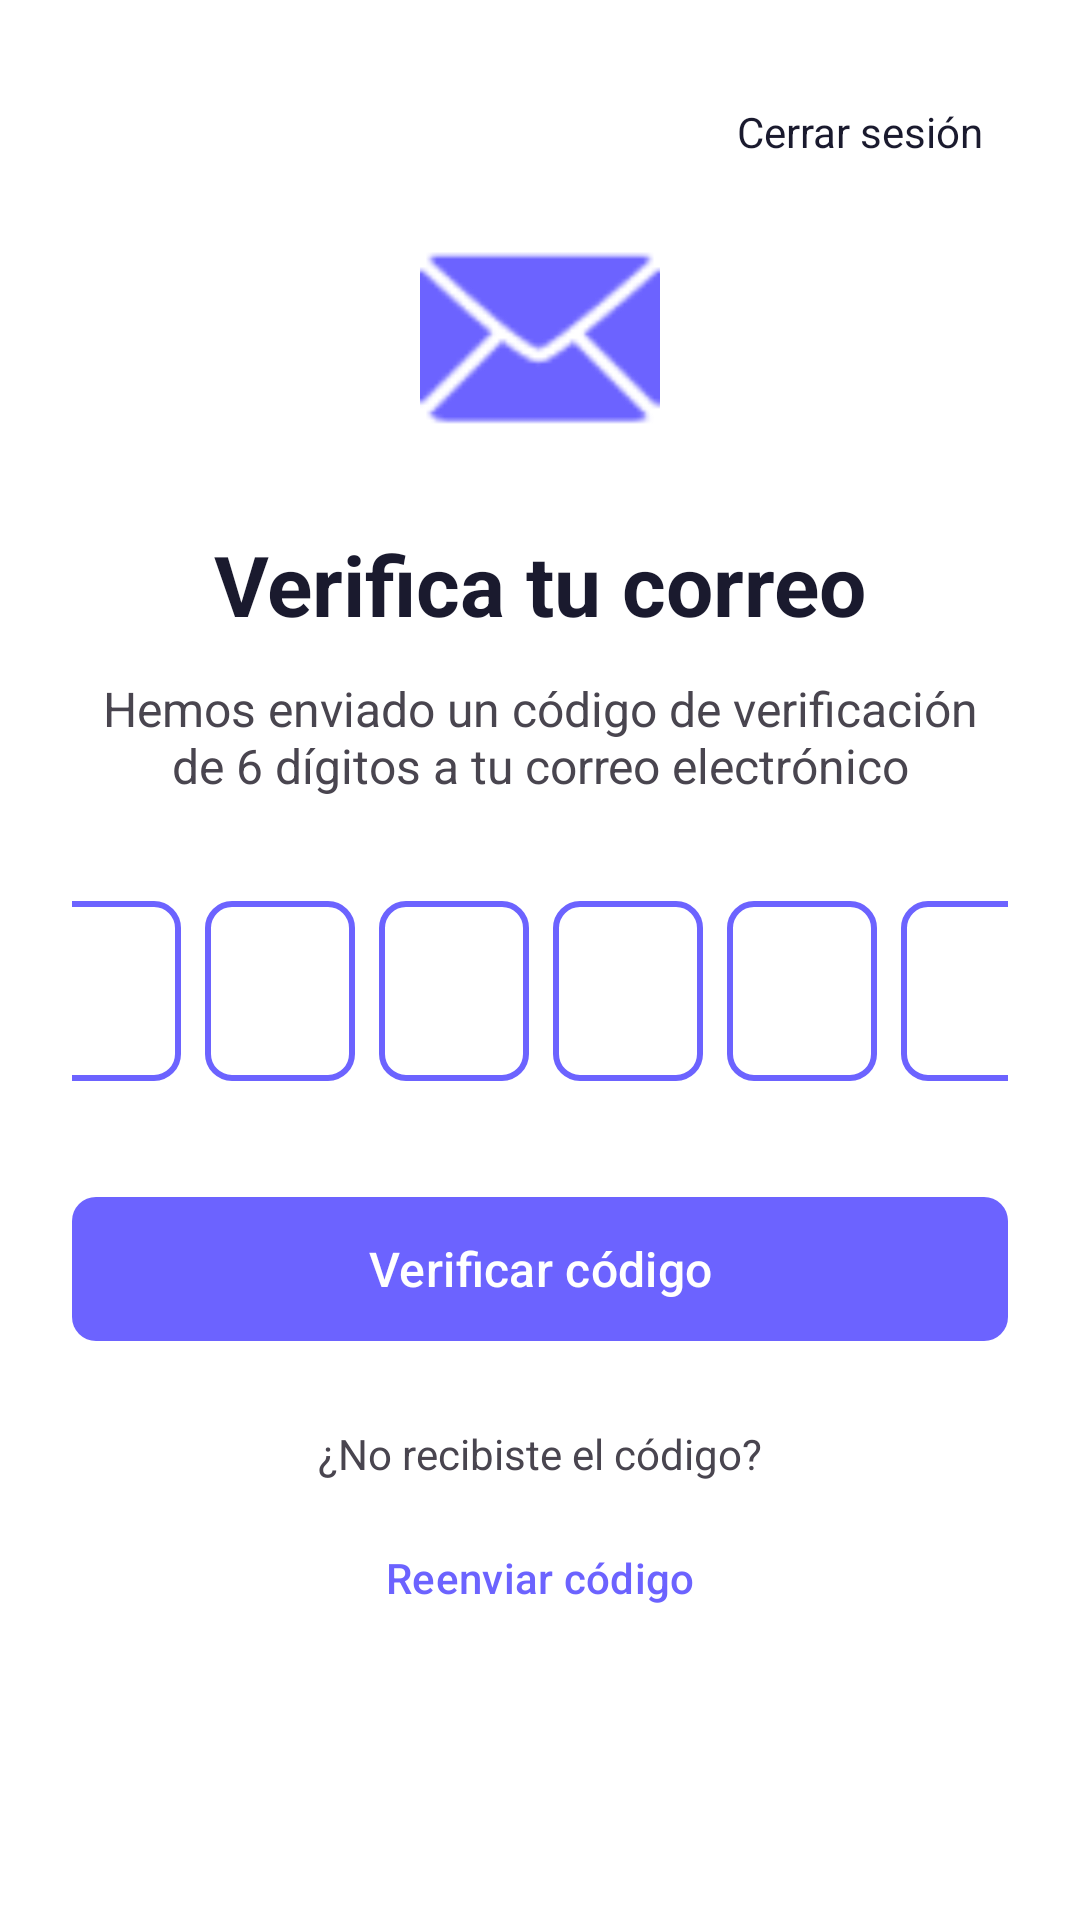

Icons on this 1080px×1920px Android screen, each with its box as [x1,y1,x2,y2]:
email: [420,253,660,423]
